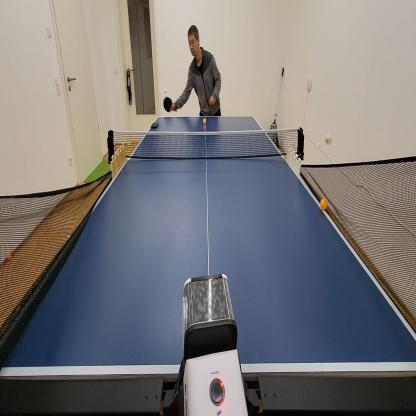Ball: (324, 129, 334, 148), (319, 196, 329, 213), (5, 251, 13, 263), (202, 116, 207, 126), (163, 86, 168, 95), (66, 233, 72, 240)
